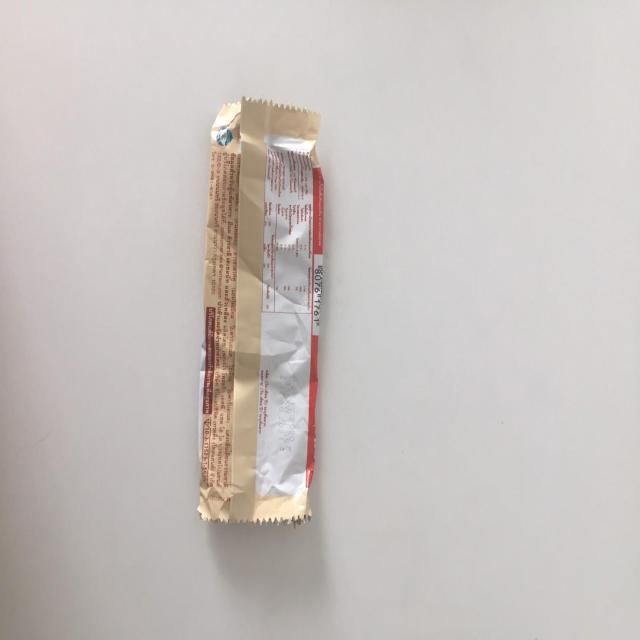vinyl: (197, 102, 326, 527)
